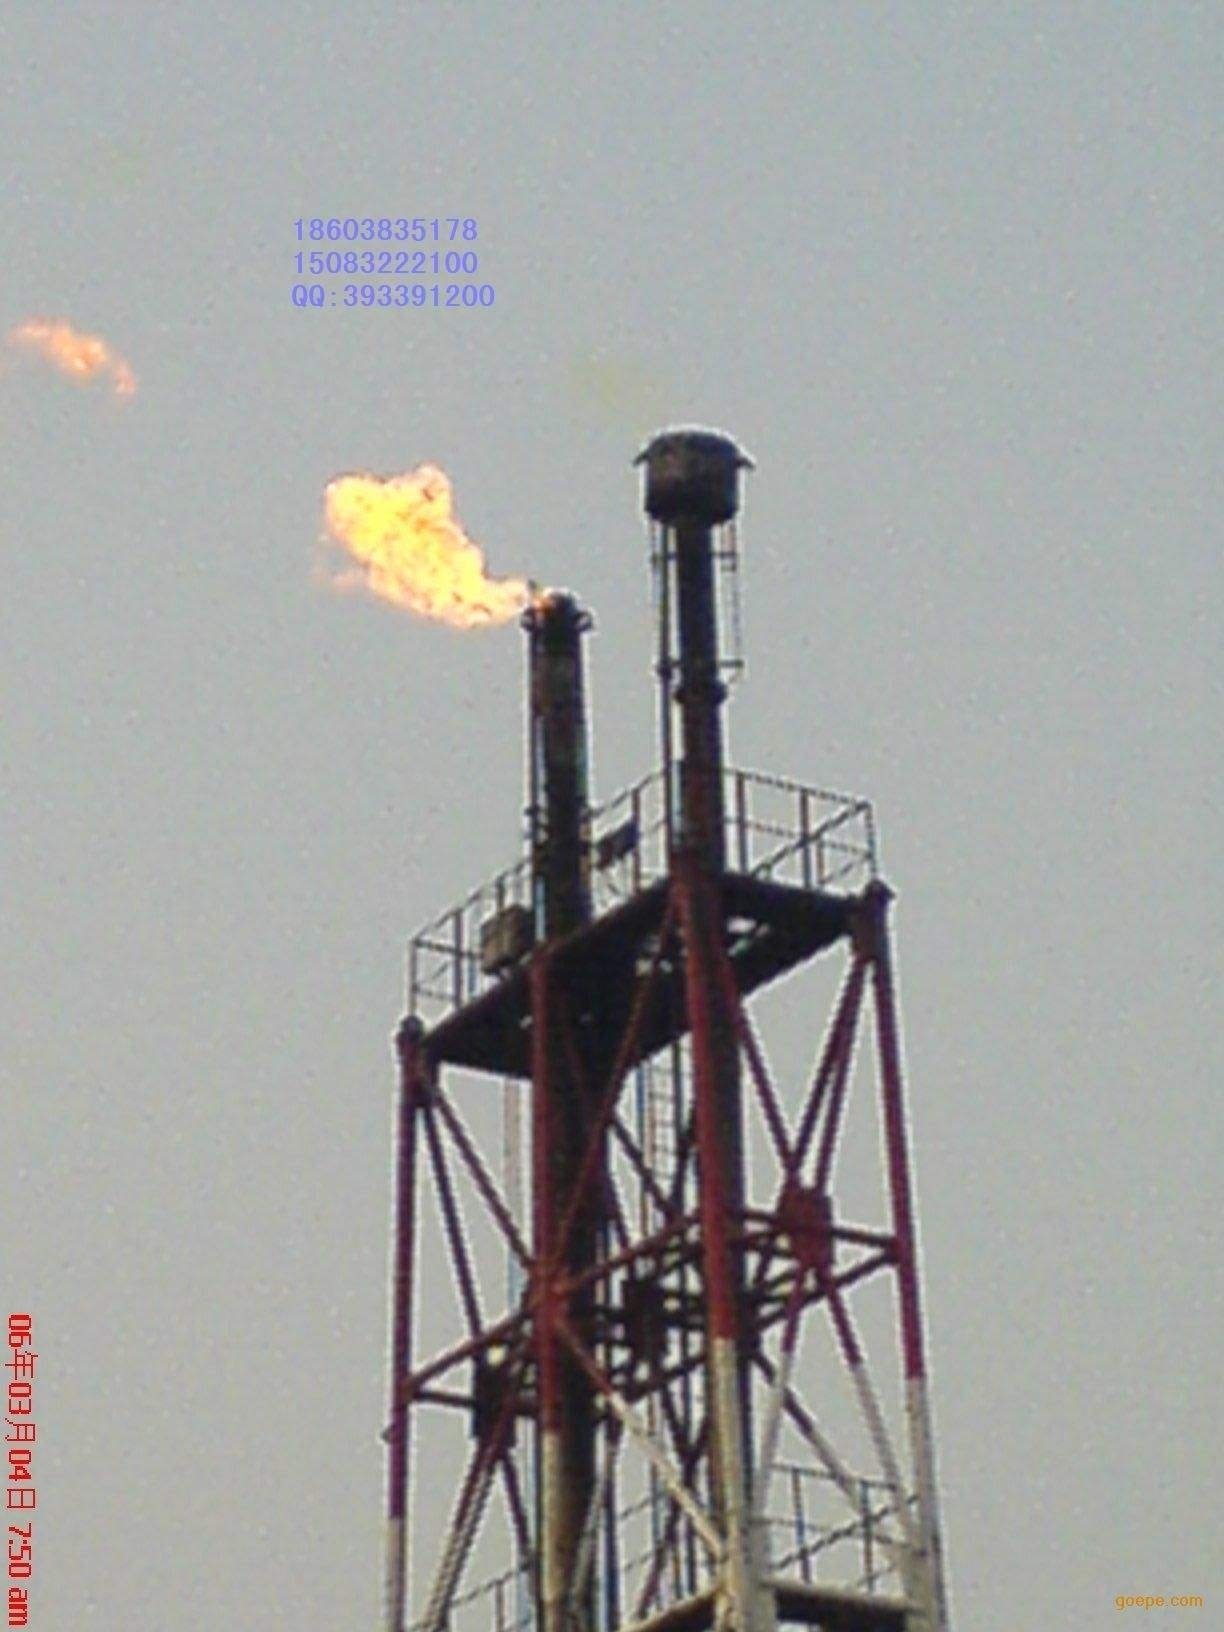fire: (315, 461, 548, 625), (12, 306, 140, 398)
